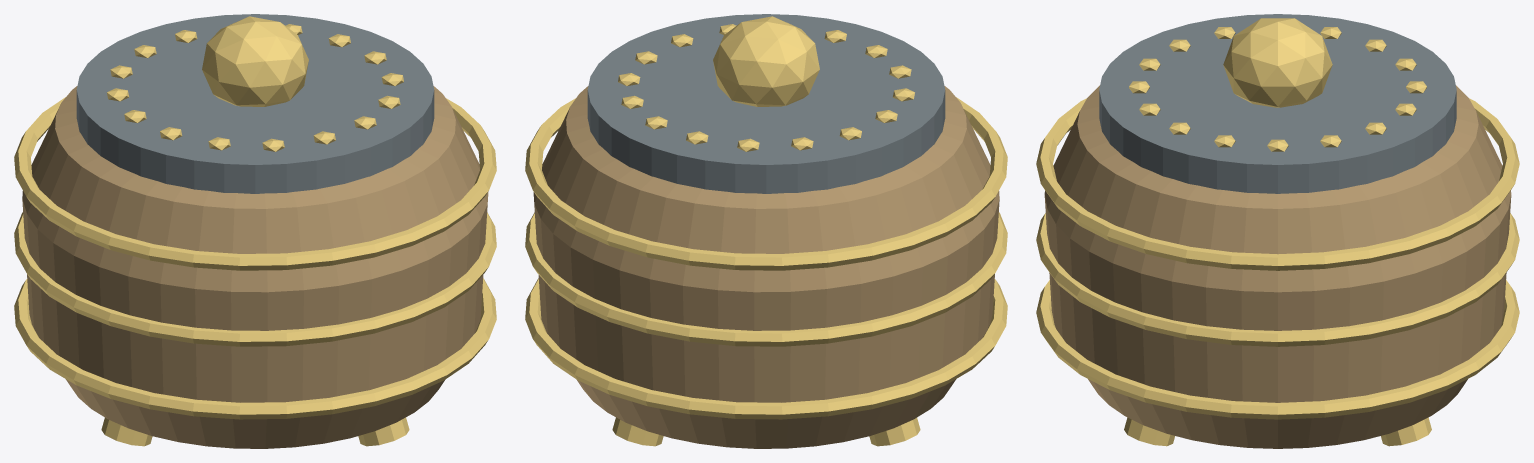
The model's file is craft_koro.glb.
3 renders of one model, left to right at view 1: azimuth 30°, elevation 25°; view 2: azimuth 150°, elevation 25°; view 3: azimuth 270°, elevation 25°, orthographic.
Visible parts, largest first — view 1: Cast bronze koro incense burner, Removable koro openwork lid, Fine chased bronze band.002, Fine chased bronze band, Fine chased bronze band.001, Lotus finial, Koro three mythical tripod feet1, Koro three mythical tripod feet2; view 2: Cast bronze koro incense burner, Removable koro openwork lid, Fine chased bronze band.002, Fine chased bronze band, Fine chased bronze band.001, Lotus finial, Koro three mythical tripod feet0, Koro three mythical tripod feet1; view 3: Cast bronze koro incense burner, Removable koro openwork lid, Fine chased bronze band.002, Fine chased bronze band, Fine chased bronze band.001, Lotus finial, Koro three mythical tripod feet0, Koro three mythical tripod feet2.
Part boxes in pixels (x1=…): Cast bronze koro incense burner: x1=22, y1=86, x2=488, y2=448; Removable koro openwork lid: x1=76, y1=14, x2=434, y2=193; Fine chased bronze band.002: x1=14, y1=97, x2=496, y2=270; Fine chased bronze band: x1=14, y1=278, x2=496, y2=419; Fine chased bronze band.001: x1=14, y1=212, x2=496, y2=346; Lotus finial: x1=202, y1=16, x2=308, y2=106; Koro three mythical tripod feet1: x1=101, y1=417, x2=152, y2=446; Koro three mythical tripod feet2: x1=358, y1=417, x2=409, y2=446; Cast bronze koro incense burner: x1=533, y1=86, x2=999, y2=448; Removable koro openwork lid: x1=587, y1=14, x2=945, y2=193; Fine chased bronze band.002: x1=525, y1=97, x2=1007, y2=270; Fine chased bronze band: x1=525, y1=278, x2=1007, y2=419; Fine chased bronze band.001: x1=525, y1=212, x2=1007, y2=346; Lotus finial: x1=713, y1=16, x2=819, y2=106; Koro three mythical tripod feet0: x1=612, y1=417, x2=663, y2=446; Koro three mythical tripod feet1: x1=869, y1=417, x2=920, y2=446; Cast bronze koro incense burner: x1=1044, y1=85, x2=1511, y2=448; Removable koro openwork lid: x1=1099, y1=14, x2=1456, y2=193; Fine chased bronze band.002: x1=1036, y1=98, x2=1519, y2=270; Fine chased bronze band: x1=1036, y1=280, x2=1519, y2=419; Fine chased bronze band.001: x1=1036, y1=213, x2=1519, y2=346; Lotus finial: x1=1223, y1=18, x2=1332, y2=107; Koro three mythical tripod feet0: x1=1381, y1=417, x2=1431, y2=446; Koro three mythical tripod feet2: x1=1124, y1=417, x2=1174, y2=446.
Bounding box in the file's own units: 1.95 × 1.74 × 1.95.
